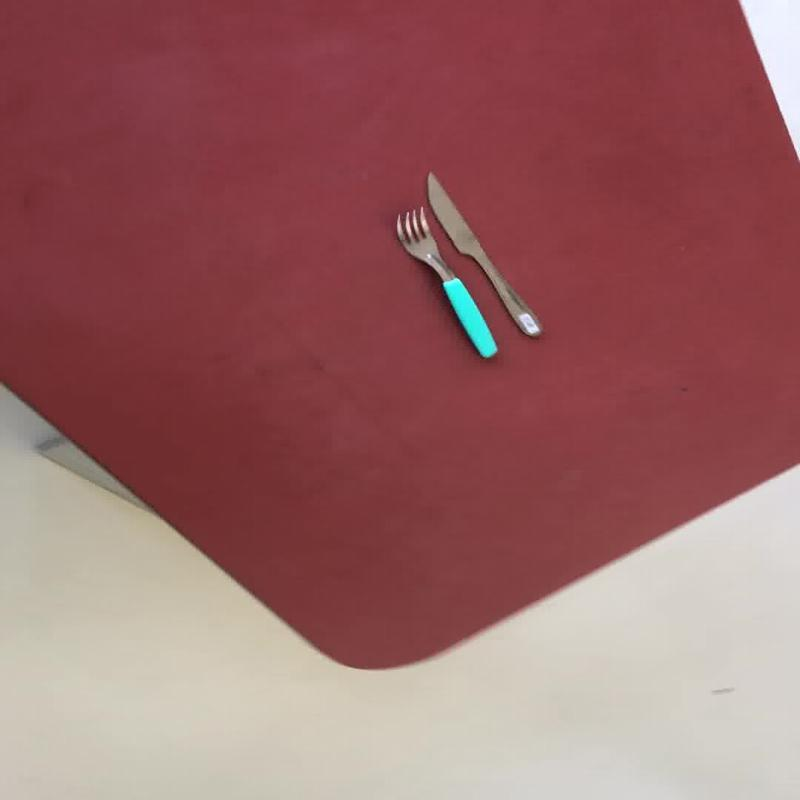fork: (392, 205, 496, 359)
knife: (423, 170, 543, 338)
